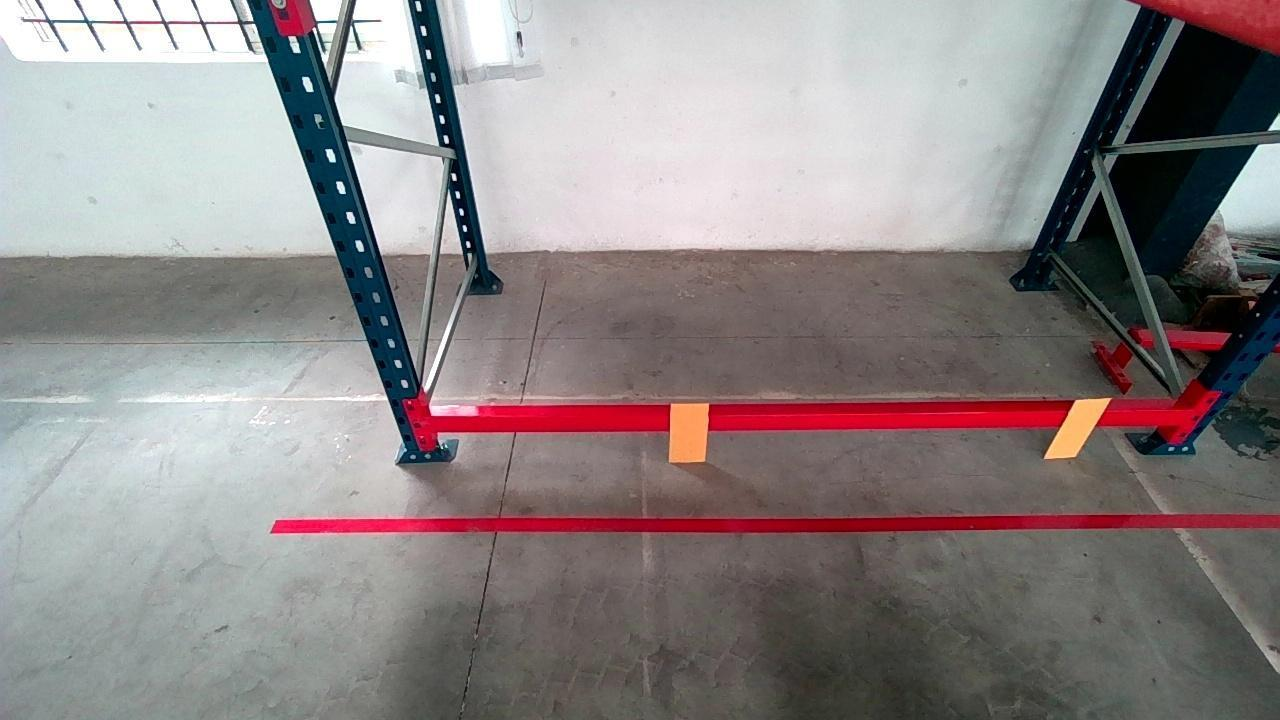h_rack: (433, 397, 1173, 441)
orange_strip: (1045, 397, 1114, 457), (671, 402, 709, 461)
red_line: (269, 512, 1273, 540)
